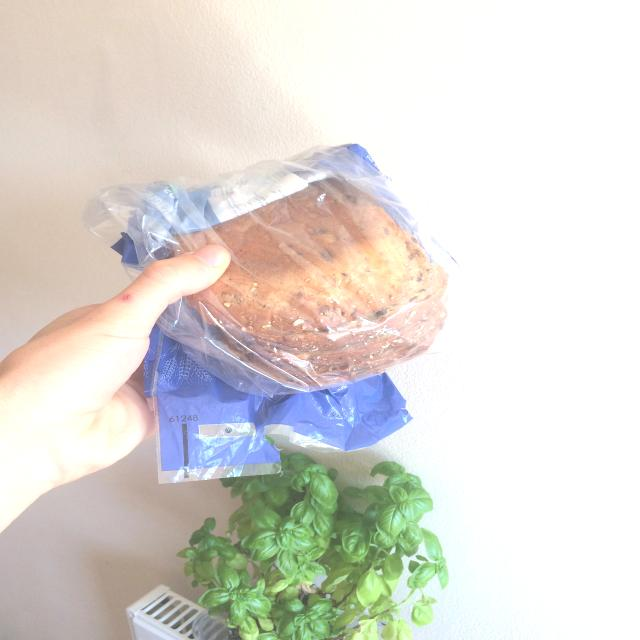Food waste: (174, 184, 450, 384)
Plastic film: (81, 143, 475, 484)
